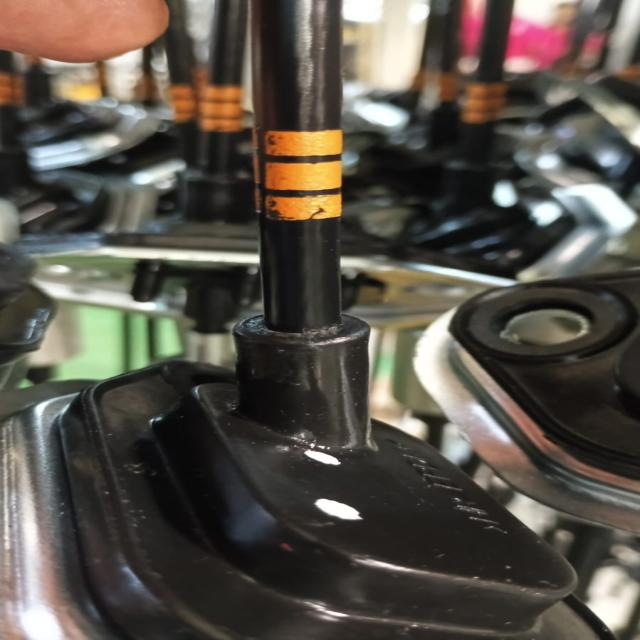orange: (253, 130, 350, 221)
